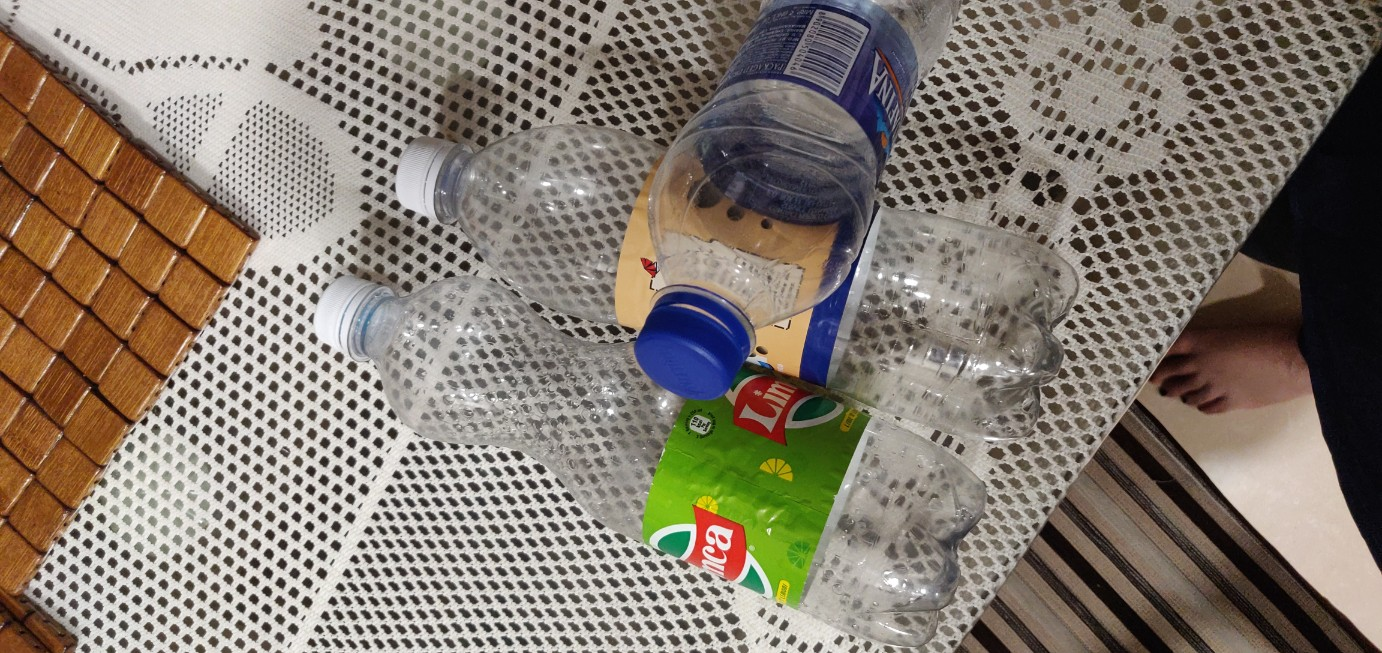Electronics: (284, 248, 1002, 648), (354, 105, 1092, 456), (609, 1, 992, 405)
